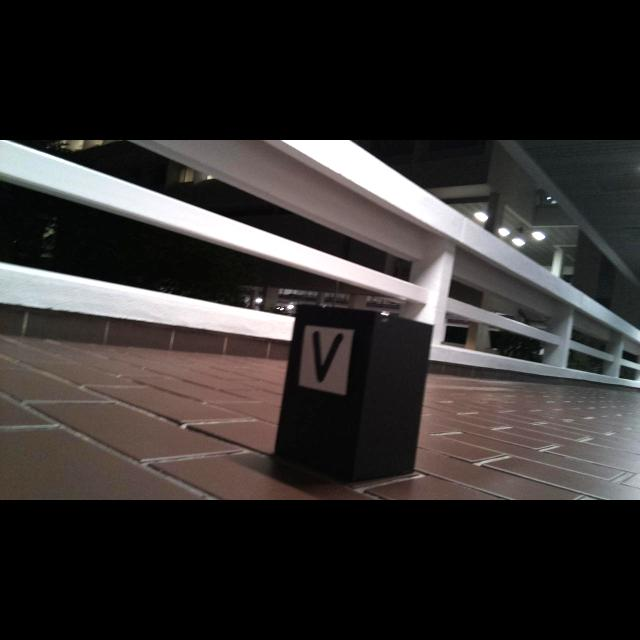V: (312, 331, 344, 382)
